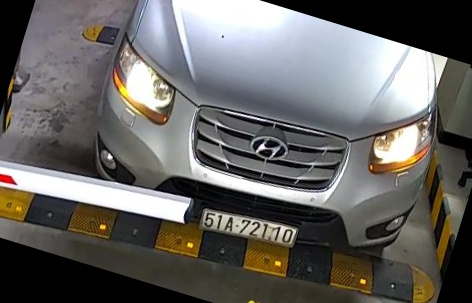plate: (197, 201, 299, 253)
